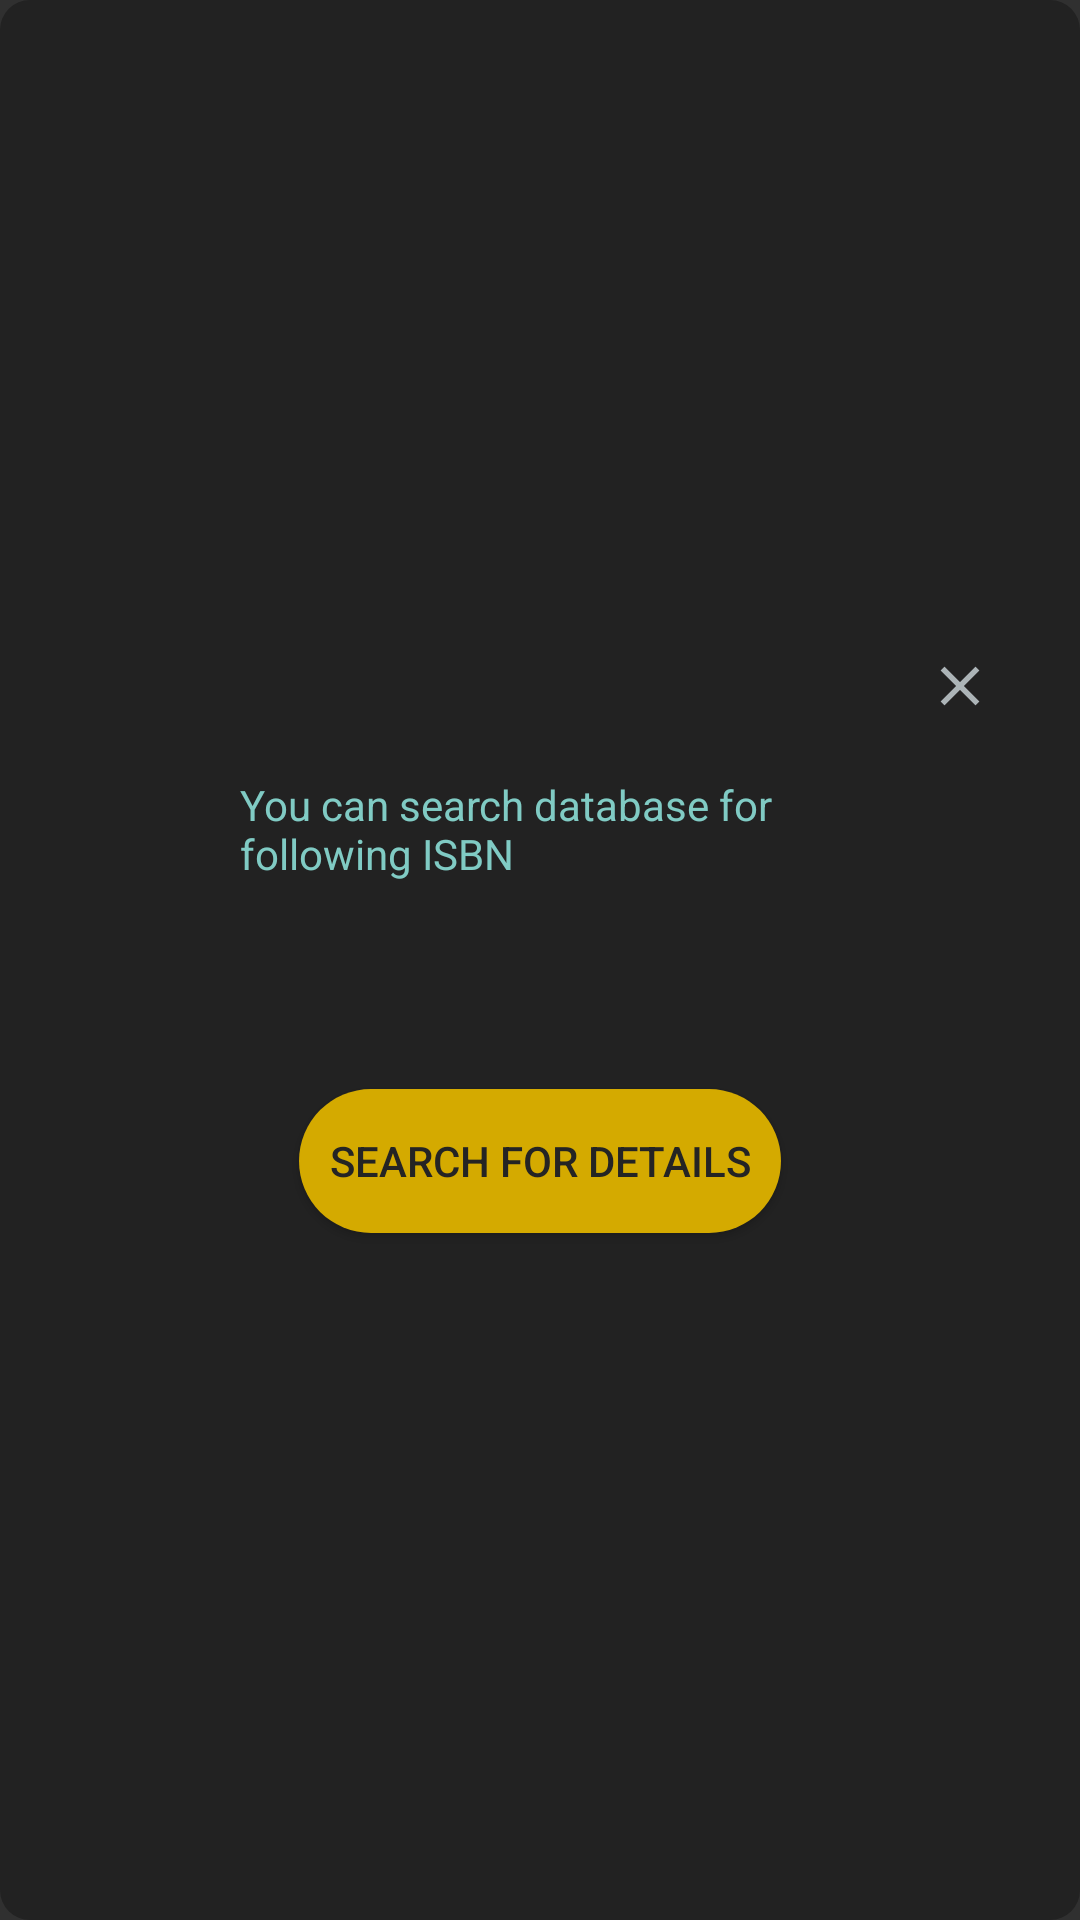

Icons on this 1080w x 1920h Android screen, each with the point to tap as [x,y]:
Close: [960,686]
